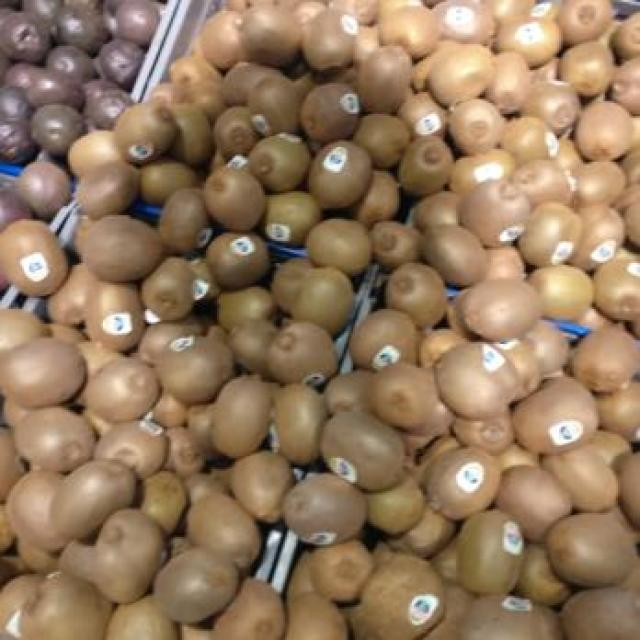kiwi: (351, 554, 442, 640), (546, 509, 638, 587), (91, 509, 162, 603), (512, 378, 598, 454), (54, 460, 135, 539), (154, 548, 239, 623), (321, 414, 402, 491), (21, 571, 112, 639), (435, 344, 518, 418), (0, 339, 86, 408), (186, 494, 261, 571), (284, 474, 366, 544), (496, 466, 571, 541), (82, 215, 164, 282), (458, 510, 522, 594), (426, 448, 500, 520), (15, 406, 95, 472), (156, 338, 234, 404), (458, 280, 541, 341), (542, 446, 619, 511), (82, 358, 160, 422), (0, 221, 65, 296), (8, 471, 68, 552), (212, 376, 271, 458), (459, 179, 530, 247), (571, 324, 639, 392), (460, 595, 562, 640), (370, 364, 439, 429), (231, 451, 294, 522), (266, 322, 338, 384), (274, 384, 328, 464), (309, 141, 372, 208), (350, 310, 419, 371), (94, 419, 165, 478), (309, 540, 374, 602), (291, 268, 352, 334), (214, 579, 281, 639), (88, 281, 145, 351), (519, 202, 581, 266), (429, 44, 492, 106), (561, 591, 640, 640), (204, 168, 265, 231), (385, 262, 445, 326), (569, 204, 625, 271), (356, 45, 411, 113), (240, 6, 301, 67), (425, 225, 486, 286), (306, 219, 371, 276), (570, 204, 625, 271), (115, 105, 178, 163), (379, 0, 440, 59), (249, 134, 311, 192), (302, 9, 359, 71), (529, 265, 594, 319), (388, 506, 456, 557), (206, 234, 269, 289), (159, 188, 212, 253), (301, 84, 359, 143), (80, 162, 139, 219), (366, 478, 426, 534), (141, 258, 194, 321), (399, 136, 454, 196), (138, 316, 204, 366), (516, 545, 570, 606), (105, 595, 179, 639), (575, 102, 631, 160), (498, 16, 559, 67), (449, 99, 505, 154), (559, 41, 614, 97), (352, 115, 410, 168), (521, 81, 579, 134), (248, 76, 299, 136), (48, 264, 98, 324), (286, 592, 348, 640), (265, 191, 321, 244), (0, 574, 45, 639), (485, 51, 531, 114), (511, 160, 572, 207), (140, 471, 186, 533), (594, 259, 640, 321), (222, 62, 286, 106), (199, 10, 246, 69), (170, 104, 214, 166), (450, 150, 512, 194), (496, 340, 542, 399), (500, 118, 558, 164), (452, 411, 514, 454), (141, 160, 198, 205), (355, 170, 400, 227), (229, 320, 278, 372), (69, 131, 124, 177), (218, 286, 276, 329), (598, 383, 640, 442), (370, 221, 422, 268), (525, 320, 569, 374), (406, 389, 455, 437), (272, 259, 314, 314), (214, 106, 259, 157), (578, 161, 626, 206), (324, 370, 373, 413), (399, 92, 446, 136), (164, 428, 205, 477), (1, 309, 44, 354), (412, 191, 459, 231), (419, 329, 466, 367), (169, 56, 222, 89), (1, 428, 24, 501), (186, 79, 225, 122), (78, 341, 122, 378), (611, 58, 640, 114), (619, 452, 640, 528), (589, 430, 631, 466), (59, 542, 95, 581), (611, 12, 640, 59), (486, 246, 525, 280), (189, 259, 220, 301), (188, 405, 214, 453), (185, 474, 226, 504), (154, 392, 188, 427), (498, 444, 539, 471), (356, 0, 378, 24)
